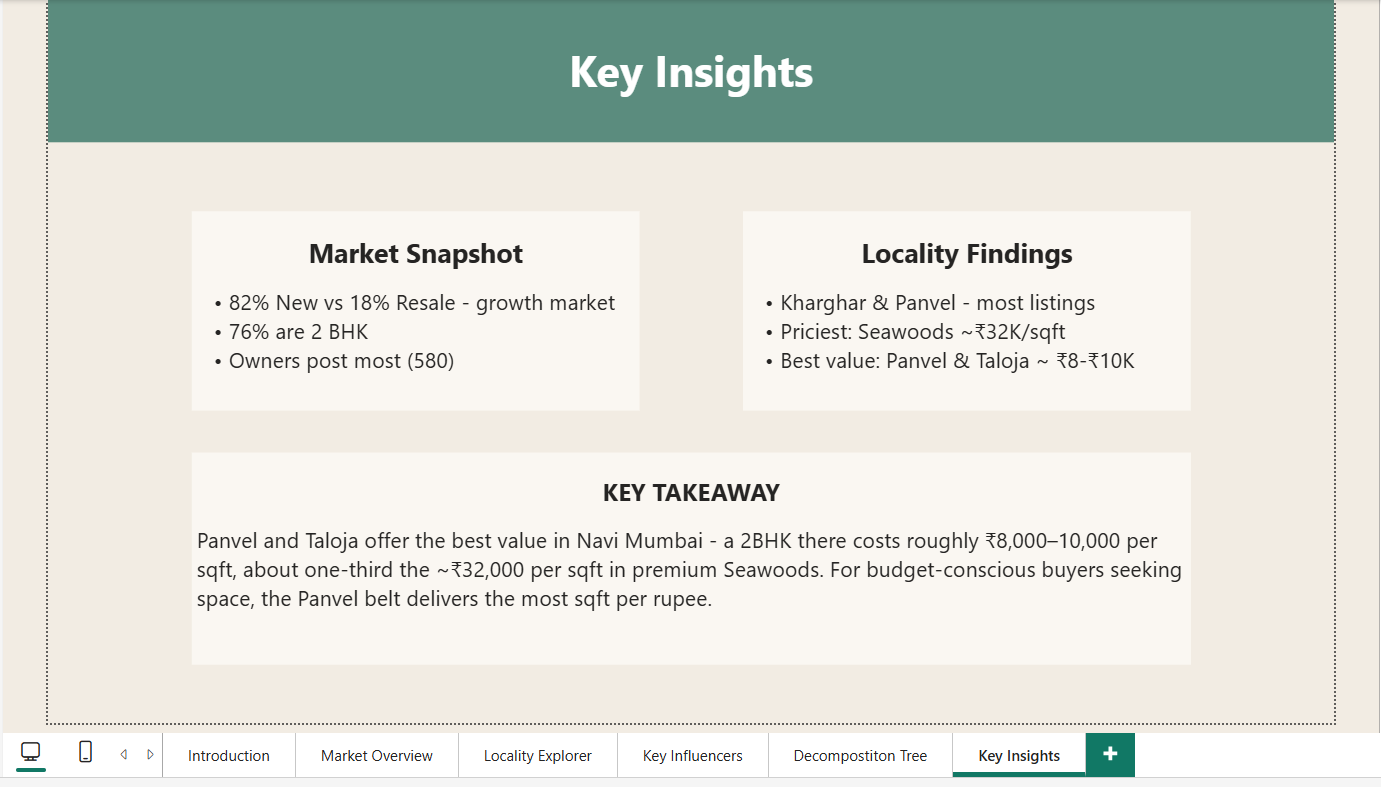

This screenshot's page, from the dashboard's own definition file:
{"tool":"powerbi","page":{"name":"Key Insights","canvas":[1280,720],"ordinal":5},"visuals":[{"type":"textbox","box":[0,0,1280,141.4],"z":0},{"type":"textbox","box":[142.9,210,445.7,198.6],"z":1000},{"type":"textbox","box":[691.4,210,445.7,198.6],"z":2000},{"type":"textbox","box":[142.9,450,994.3,211.4],"z":2001}]}

Visuals, with their boxes on the page's 1280x720 design canvas (x1, y1, x2, y2). These are canvas units, not pixel positions in the 1381x787 screenshot, which may show the page scaled, cropped or inside an application window:
textbox: [x1=0, y1=0, x2=1280, y2=141]
textbox: [x1=143, y1=210, x2=589, y2=409]
textbox: [x1=691, y1=210, x2=1137, y2=409]
textbox: [x1=143, y1=450, x2=1137, y2=661]
